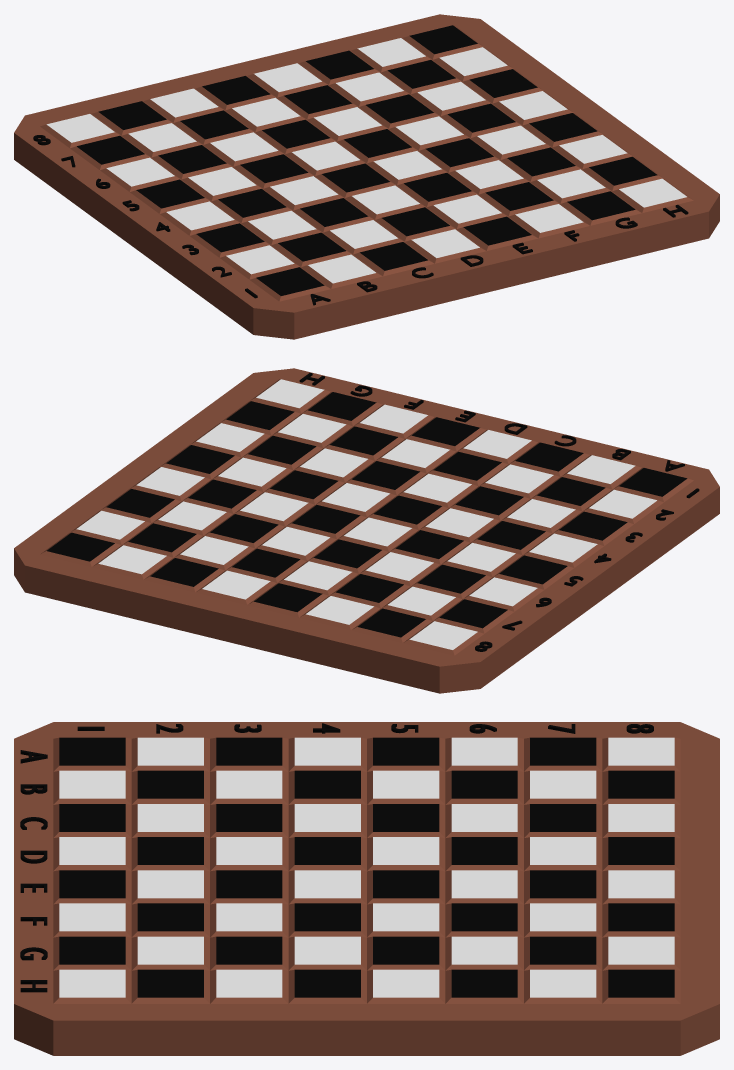
Rendered from tile-good.gltf.
The picture shows the model from 3 angles, top to bottom: view 1: azimuth 30°, elevation 25°; view 2: azimuth 150°, elevation 25°; view 3: azimuth 270°, elevation 25°; orthographic projection. The views are drawn at different scales.
Parts seen in each view (by area): view 1: Table, Table.011, Table.046, Table.054, Table.057, Table.006, Table.008, Table.019, Table.021, Table.024, Table.027, Table.029 (+53 smaller); view 2: Table, Table.014, Table.043, Table.051, Table.064, Table.001, Table.003, Table.006, Table.020, Table.022, Table.028, Table.030 (+53 smaller); view 3: Table, Table.001, Table.008, Table.009, Table.016, Table.033, Table.040, Table.041, Table.048, Table.049, Table.056, Table.057 (+53 smaller).
Part boxes in pixels (bbox=[...]): Table: bbox=[14, 14, 719, 339]; Table.011: bbox=[248, 210, 316, 239]; Table.046: bbox=[366, 94, 433, 123]; Table.054: bbox=[417, 81, 485, 110]; Table.057: bbox=[619, 178, 686, 207]; Table.006: bbox=[106, 157, 174, 186]; Table.008: bbox=[46, 114, 114, 142]; Table.019: bbox=[300, 198, 368, 226]; Table.021: bbox=[240, 154, 308, 183]; Table.024: bbox=[150, 88, 218, 117]; Table.027: bbox=[352, 185, 419, 214]; Table.029: bbox=[292, 141, 359, 170]; Table: bbox=[14, 368, 719, 693]; Table.014: bbox=[417, 564, 485, 593]; Table.043: bbox=[300, 448, 367, 477]; Table.051: bbox=[248, 435, 316, 464]; Table.064: bbox=[47, 532, 114, 561]; Table.001: bbox=[619, 468, 687, 496]; Table.003: bbox=[559, 511, 627, 540]; Table.006: bbox=[469, 577, 537, 606]; Table.020: bbox=[425, 508, 493, 537]; Table.022: bbox=[365, 552, 433, 580]; Table.028: bbox=[374, 495, 441, 524]; Table.030: bbox=[314, 539, 381, 568]; Table: bbox=[14, 722, 719, 1055]; Table.001: bbox=[59, 737, 125, 765]; Table.008: bbox=[608, 737, 674, 765]; Table.009: bbox=[59, 770, 125, 798]; Table.016: bbox=[608, 770, 674, 798]; Table.033: bbox=[59, 870, 125, 898]; Table.040: bbox=[608, 870, 674, 898]; Table.041: bbox=[59, 903, 125, 931]; Table.048: bbox=[608, 903, 674, 931]; Table.049: bbox=[59, 936, 125, 964]; Table.056: bbox=[608, 936, 674, 964]; Table.057: bbox=[59, 969, 125, 997].
Size of the model in its own units: 18 by 1.1 by 18.
